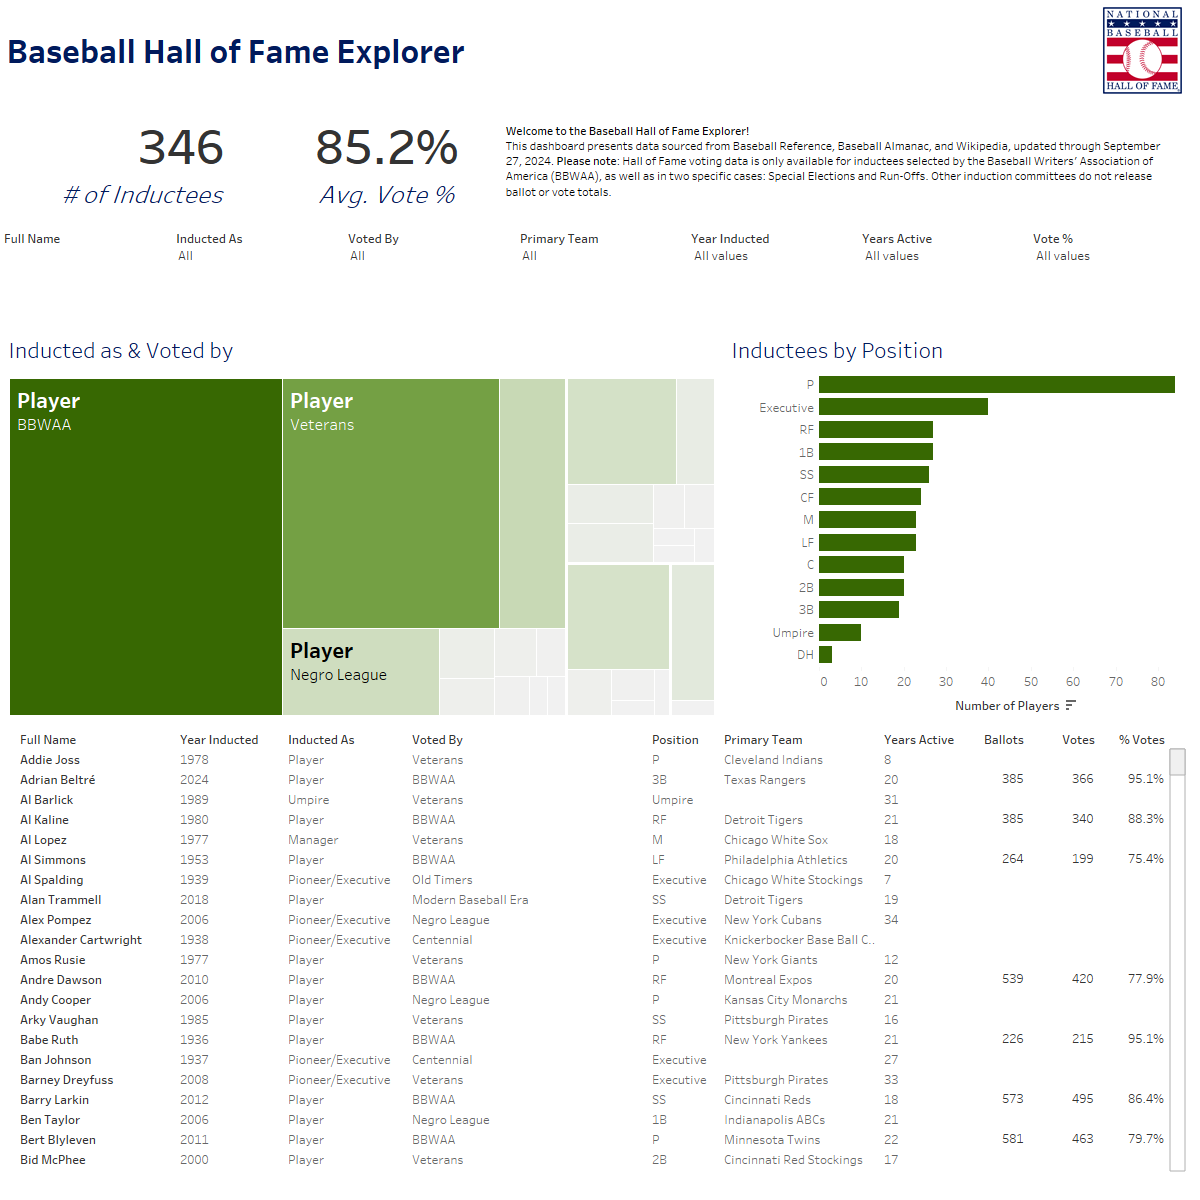

What the dashboard file says about the page in this screenshot:
{"tool":"tableau","page":{"name":"HOF Explorer","canvas":[1200,1200],"ordinal":0},"visuals":[{"type":"text","box":[0,0,1084,100]},{"type":"blank","box":[0,0,1200,100]},{"type":"image","param":"Image/baseball_hof_logo.png","box":[1084,0,116,100]},{"type":"worksheet","title":"BAN - Number of HOF Inductees","mark":"Automatic","box":[0,100,234,125]},{"type":"worksheet","title":"BAN - Avg Vote Percentage","mark":"Automatic","box":[234,100,233,125]},{"type":"blank","box":[467,100,32,125]},{"type":"text","box":[499,100,669,125]},{"type":"blank","box":[1168,100,32,125]},{"type":"filter","title":"Inducted As & By Treemap","param":"[federated.18jsjy80tx9s0f1c3blai062q1gh].[none:full_name:nk]","box":[0,225,150,100]},{"type":"filter","title":"Inducted As & By Treemap","param":"[federated.18jsjy80tx9s0f1c3blai062q1gh].[none:inducted_as:nk]","box":[150,225,150,100]},{"type":"filter","title":"Inducted As & By Treemap","param":"[federated.18jsjy80tx9s0f1c3blai062q1gh].[none:voted_by:nk]","box":[300,225,150,100]},{"type":"filter","title":"Inducted As & By Treemap","param":"[federated.18jsjy80tx9s0f1c3blai062q1gh].[none:primary_team:nk]","box":[450,225,150,100]},{"type":"filter","title":"Inductee Explorer","param":"[federated.18jsjy80tx9s0f1c3blai062q1gh].[Years Active Start (group)]","box":[600,225,150,100]},{"type":"filter","title":"Inducted As & By Treemap","param":"[federated.18jsjy80tx9s0f1c3blai062q1gh].[none:year_inducted:qk]","box":[750,225,150,100]},{"type":"filter","title":"Inducted As & By Treemap","param":"[federated.18jsjy80tx9s0f1c3blai062q1gh].[none:Calculation_2847400931063074818:q","box":[900,225,150,100]},{"type":"filter","title":"Inductee Explorer","param":"[federated.18jsjy80tx9s0f1c3blai062q1gh].[none:Votes Pct (copy)_4424787307879956","box":[1050,225,150,100]},{"type":"worksheet","title":"Inducted As & By Treemap","mark":"Automatic","box":[0,325,723,400]},{"type":"worksheet","title":"Inductees by Position","mark":"Automatic","rows":["position"],"cols":["Calculation_2847400931048161280"],"box":[723,325,477,400]},{"type":"worksheet","title":"Inductee Explorer","mark":"Automatic","rows":["full_name","year_inducted","inducted_as","voted_by","position","Calculation_783907877810835456","Calculation_783907877811445761"],"box":[10,725,1180,450]}]}

Visuals, with their boxes in screenshot pixels (x1, y1, x2, y2), scaled from the page's 1200x1200 canvas onto the 1200x1200 screenshot:
text: 0,0,1084,100
blank: 0,0,1199,100
image: 1084,0,1199,100
"BAN - Number of HOF Inductees" worksheet: 0,100,234,225
"BAN - Avg Vote Percentage" worksheet: 234,100,467,225
blank: 467,100,499,225
text: 499,100,1168,225
blank: 1168,100,1199,225
"Inducted As & By Treemap" filter: 0,225,150,325
"Inducted As & By Treemap" filter: 150,225,300,325
"Inducted As & By Treemap" filter: 300,225,450,325
"Inducted As & By Treemap" filter: 450,225,600,325
"Inductee Explorer" filter: 600,225,750,325
"Inducted As & By Treemap" filter: 750,225,900,325
"Inducted As & By Treemap" filter: 900,225,1050,325
"Inductee Explorer" filter: 1050,225,1199,325
"Inducted As & By Treemap" worksheet: 0,325,723,725
"Inductees by Position" worksheet: 723,325,1199,725
"Inductee Explorer" worksheet: 10,725,1190,1175
